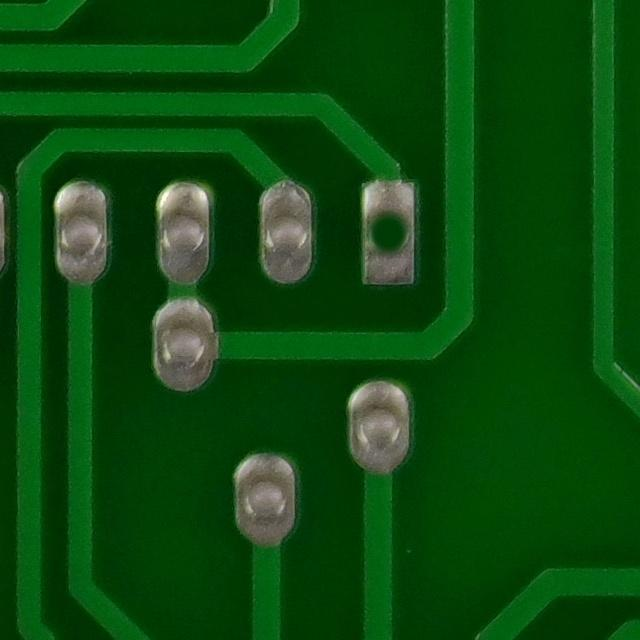missing_hole: (354, 180, 427, 283)
